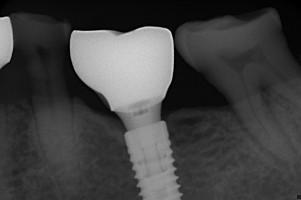Endo-Periodontal Lesion: (258, 81, 275, 99)
